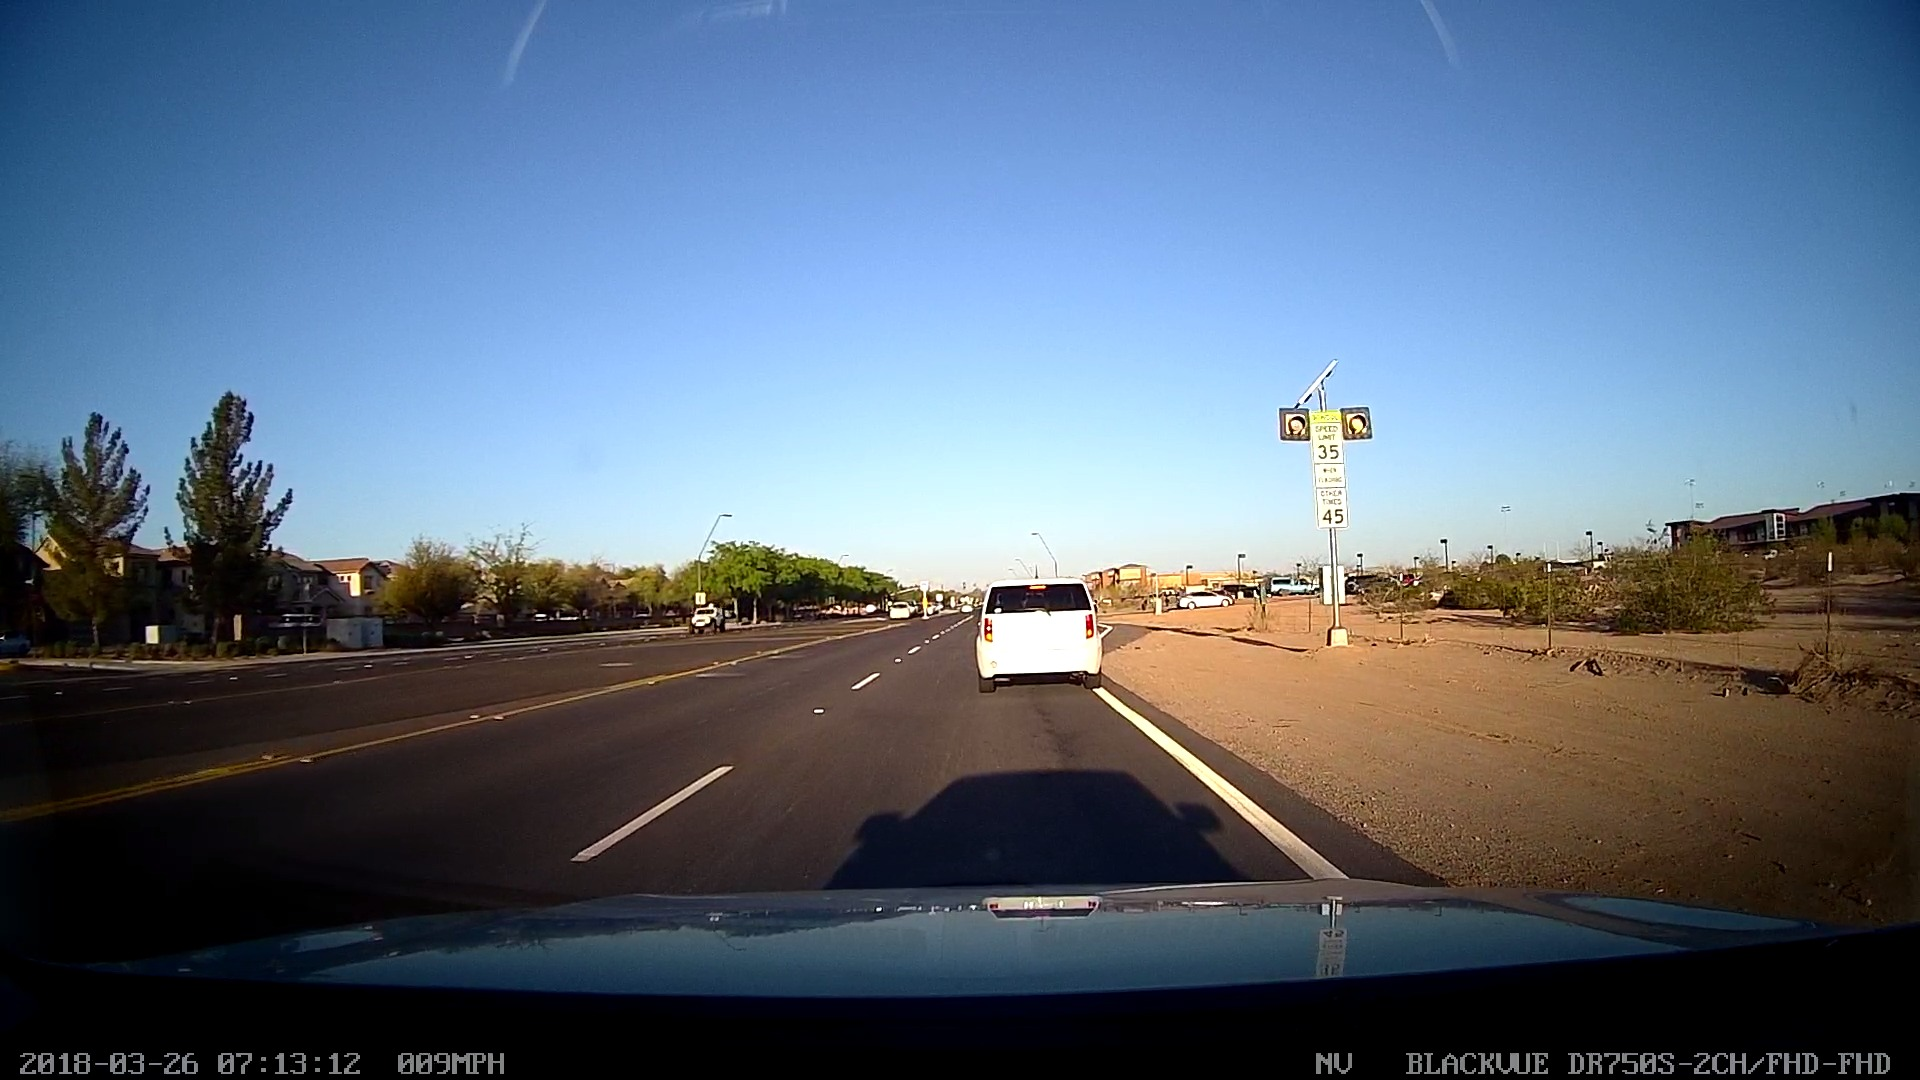vehicle: (968, 568, 1106, 696), (684, 597, 733, 638)
